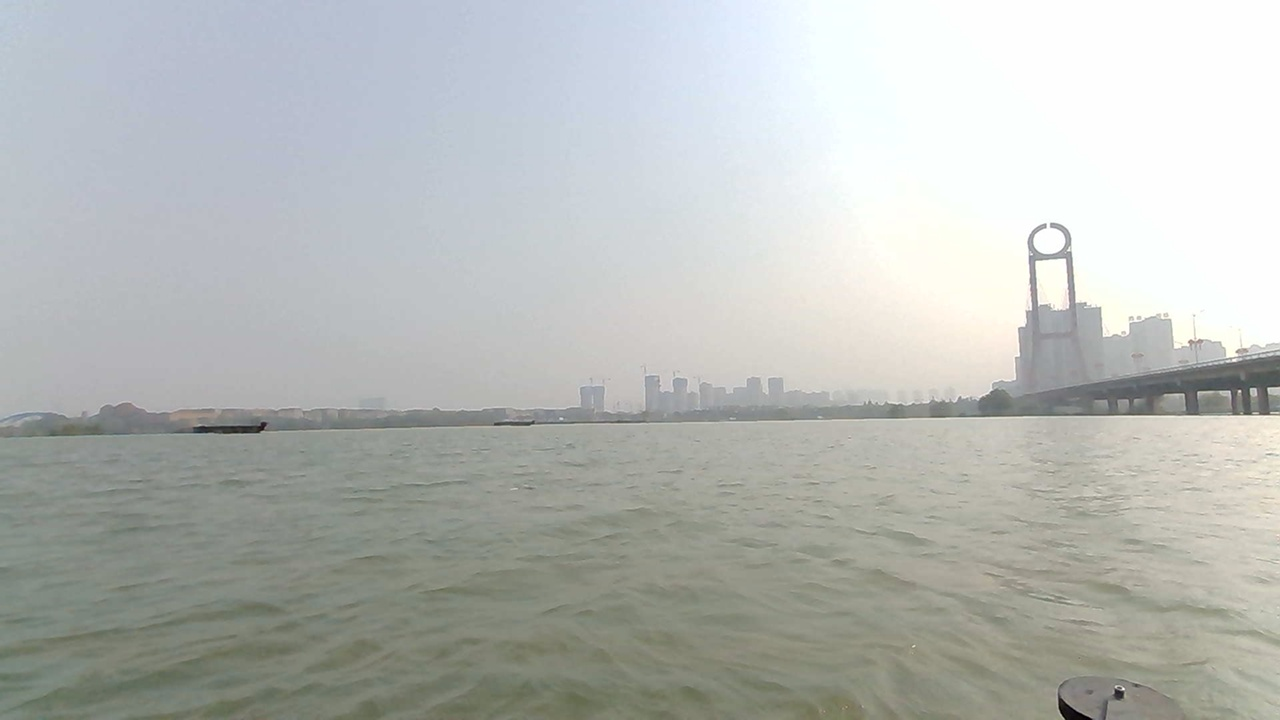bottle: (502, 483, 553, 510)
